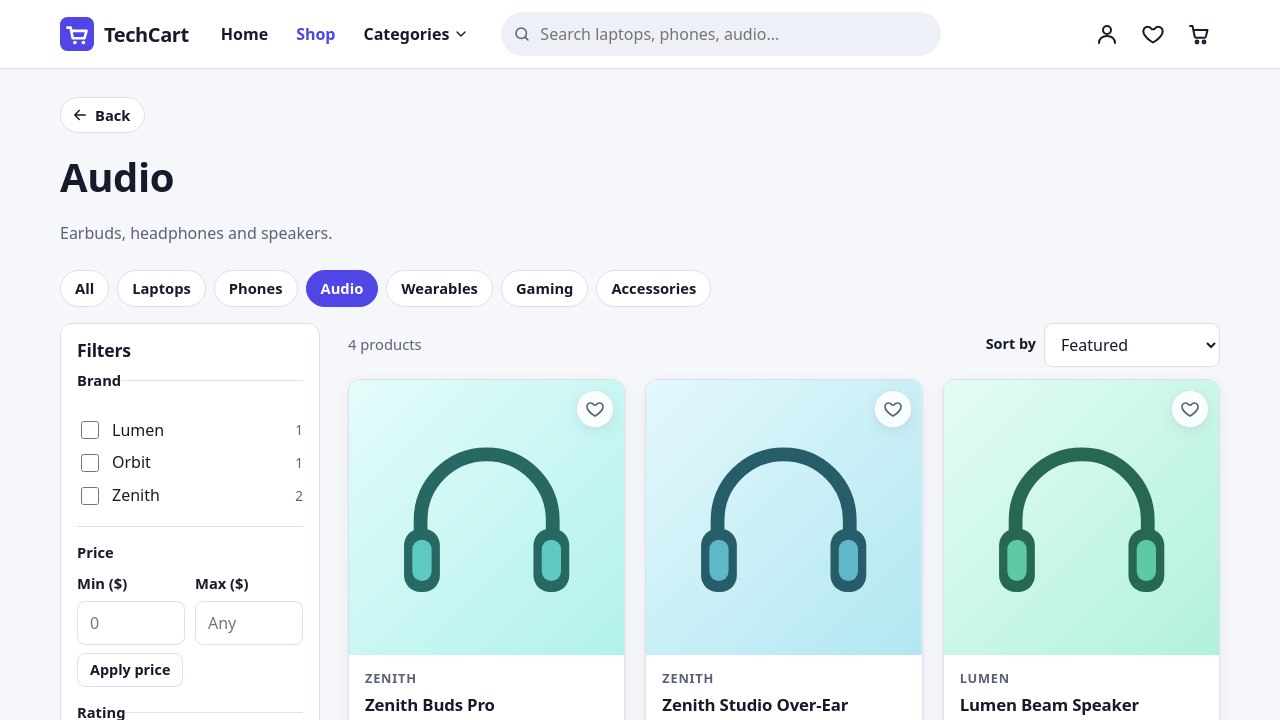
Test: ProductPage › opens from a product card
What coordinates should you click on to do the following:
click the link "Zenith Buds Pro"
I would click on:
 (430, 704)
Its box is [365, 693, 495, 716].
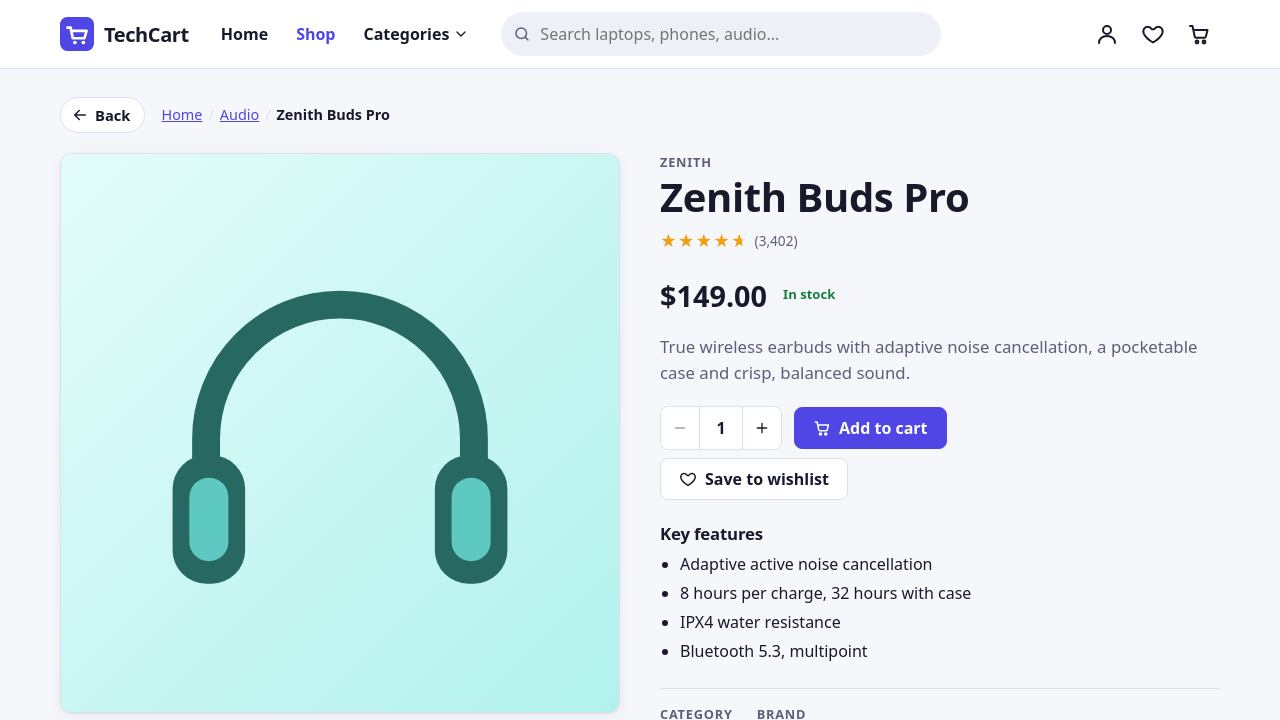
Check: the heading "Zenith Buds Pro" is shown, box [660, 169, 969, 224]
